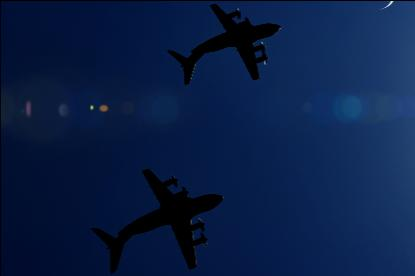A400M: (90, 168, 224, 274), (166, 2, 280, 84)
